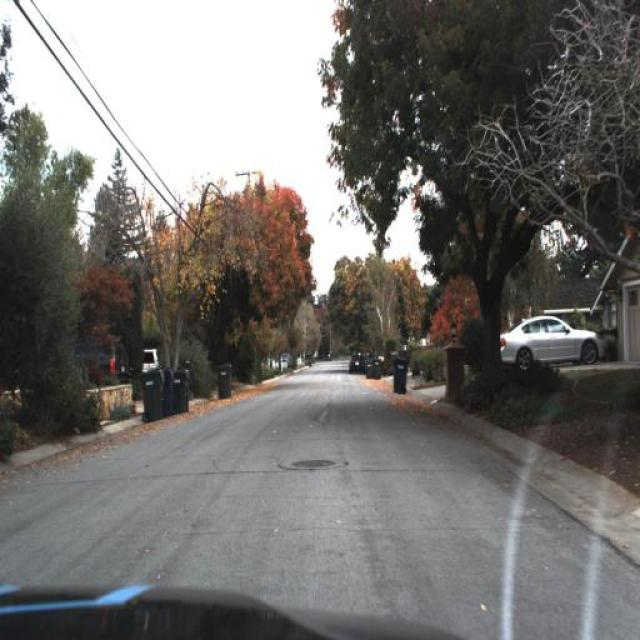car: (494, 310, 602, 376), (66, 328, 132, 393), (345, 344, 370, 384), (140, 348, 164, 373)
